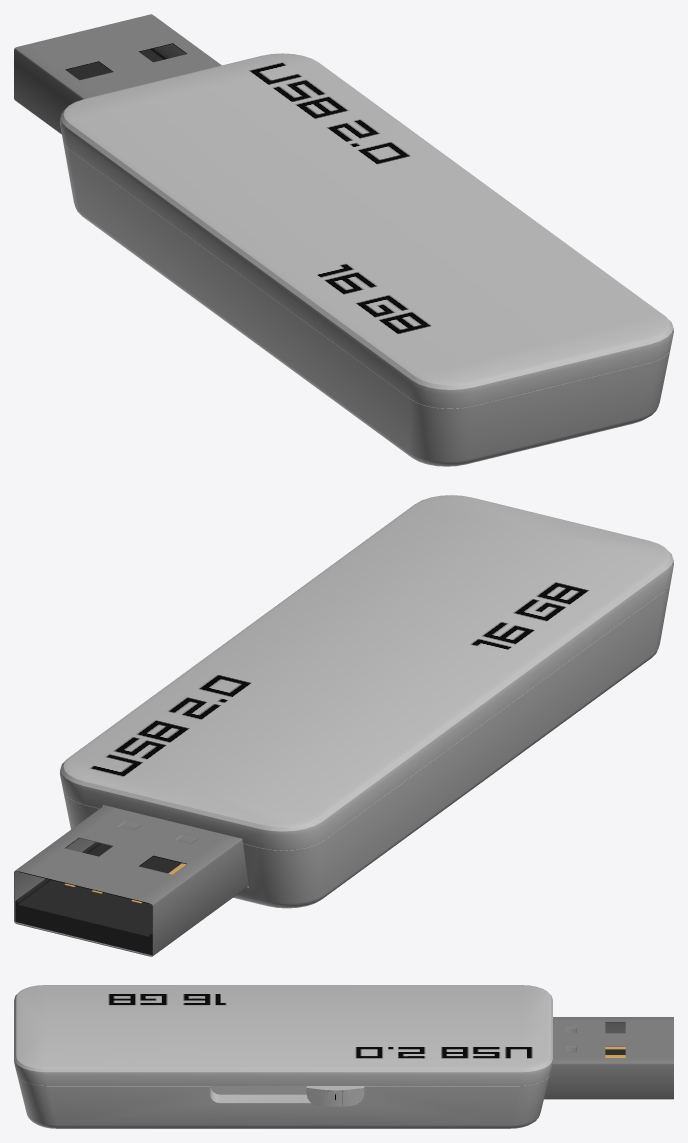
File: usb.glb
3 renders of one model, top to bottom at view 1: azimuth 30°, elevation 25°; view 2: azimuth 150°, elevation 25°; view 3: azimuth 270°, elevation 25°, orthographic. The views are drawn at different scales.
Visible parts, largest first — view 1: Cube.001; view 2: Cube.001; view 3: Cube.001.
Part boxes in pixels (x1,y1,x2,y2): Cube.001: (14, 14, 673, 466); Cube.001: (14, 495, 673, 956); Cube.001: (14, 985, 673, 1128).
Bounding box in the file's own units: 1.12 × 0.3757 × 3.5.
Materials: 1 (1 with a texture image).
